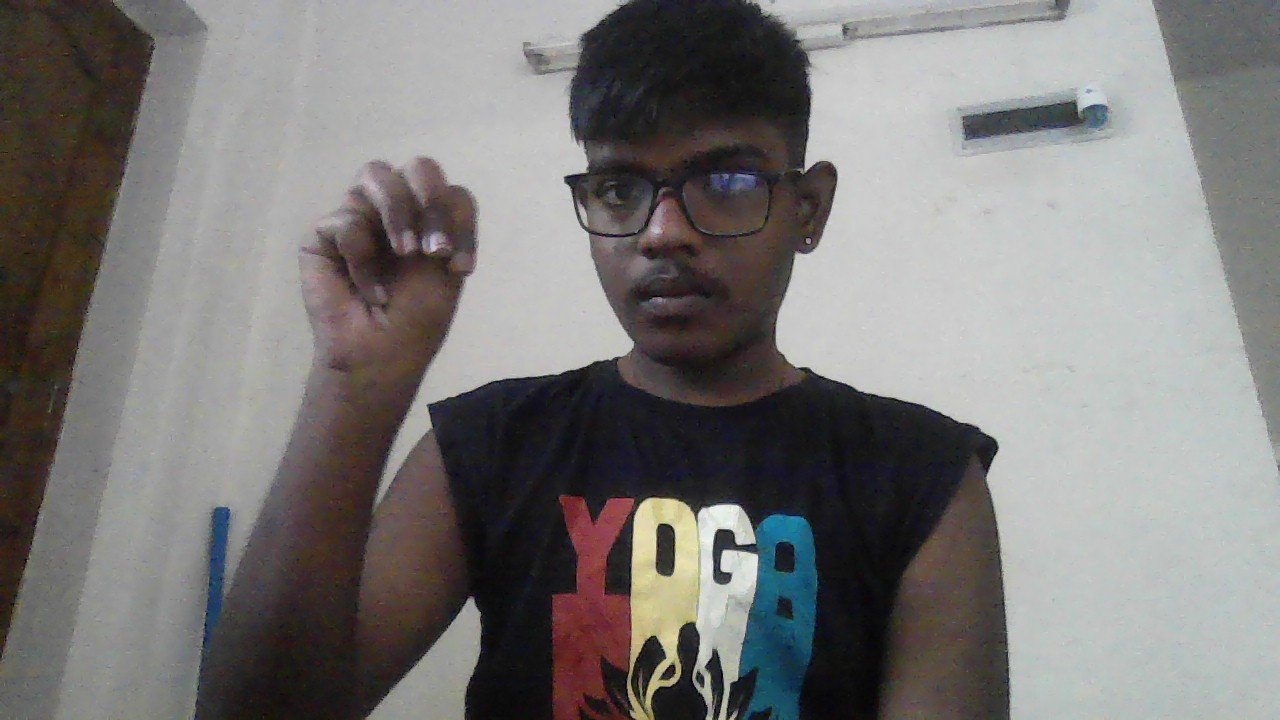M: (300, 155, 478, 386)
